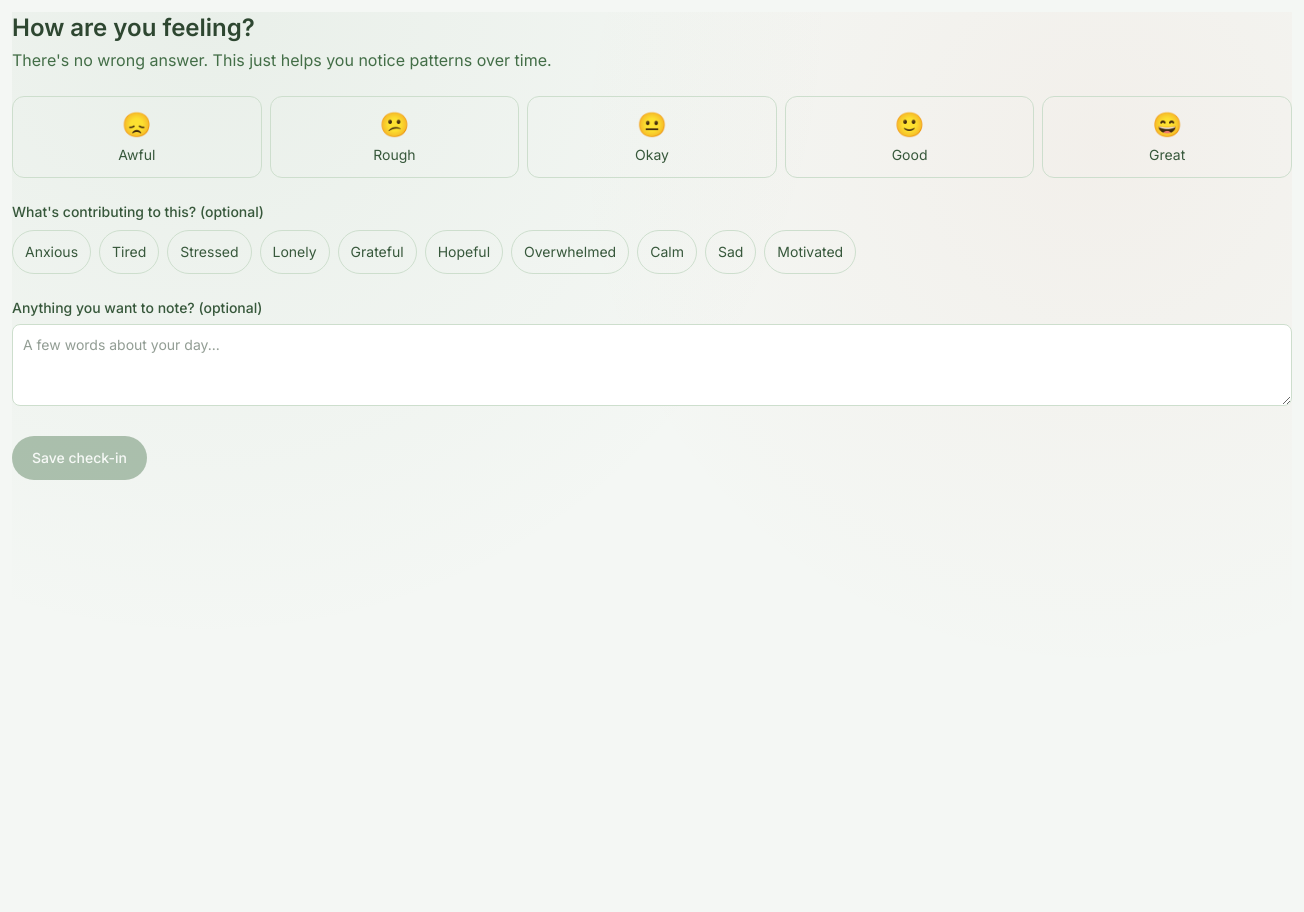
Test: CheckIn page › follow-up after saving › points to support and offers to make a safety plan after a low check-in
This screenshot has width=1304, height=912.
Click the radio button labelled "😞 Awful" at (137, 137), box x1=12 y1=96 x2=262 y2=178
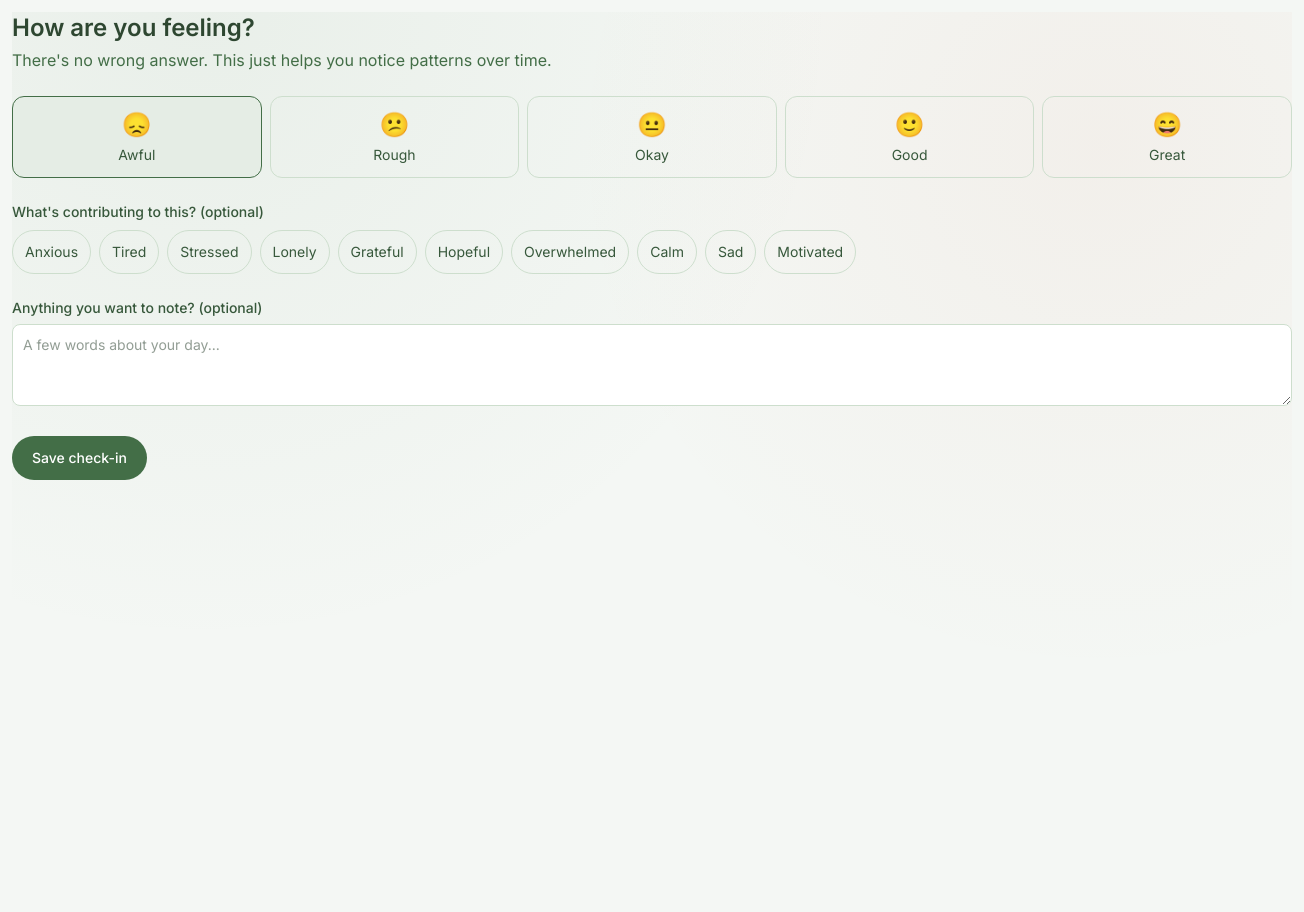
Click the button "Save check-in" at (79, 458), box x1=12 y1=436 x2=147 y2=480
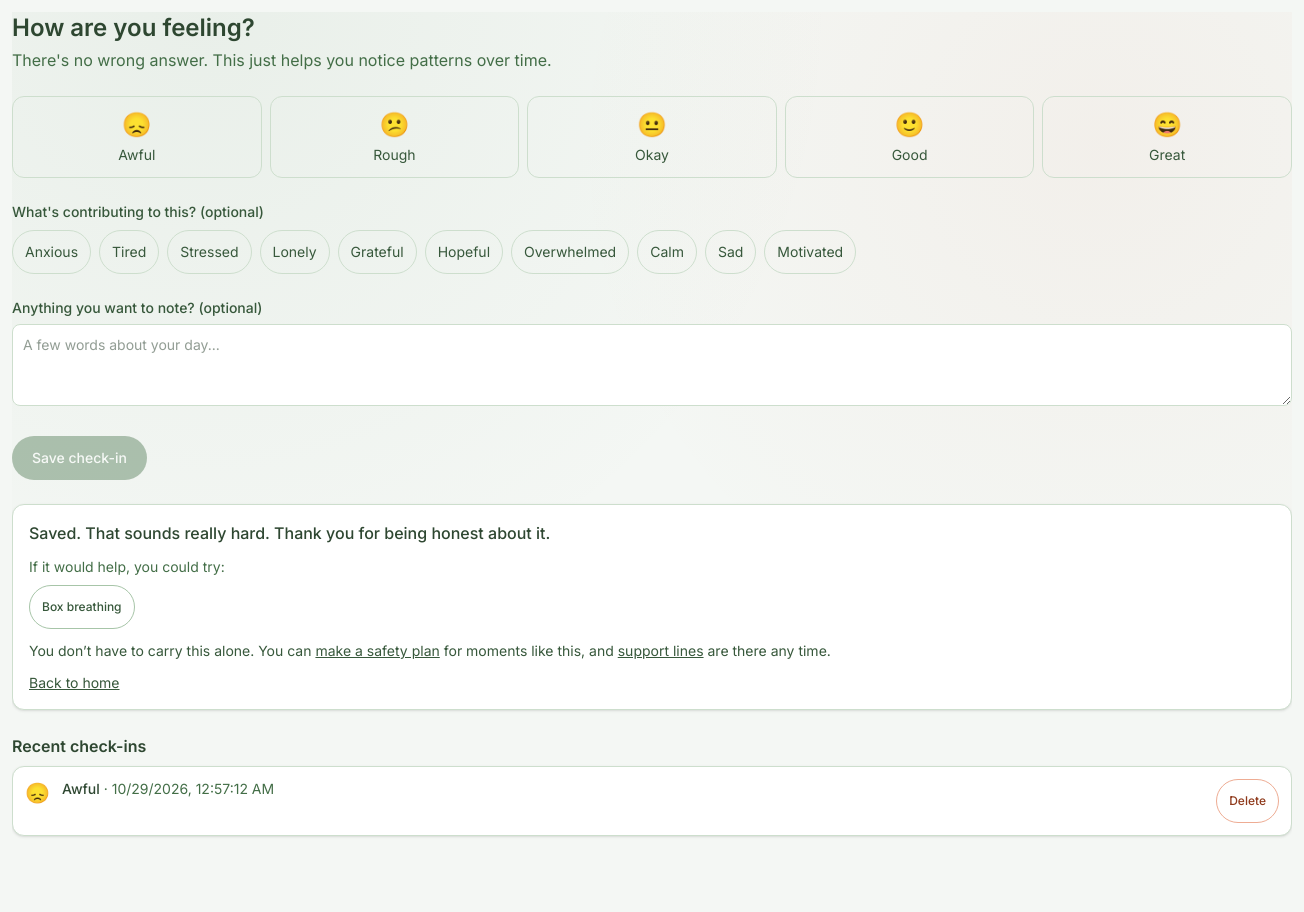
Check: the link "make a safety plan" is shown, box x1=315 y1=642 x2=440 y2=659
